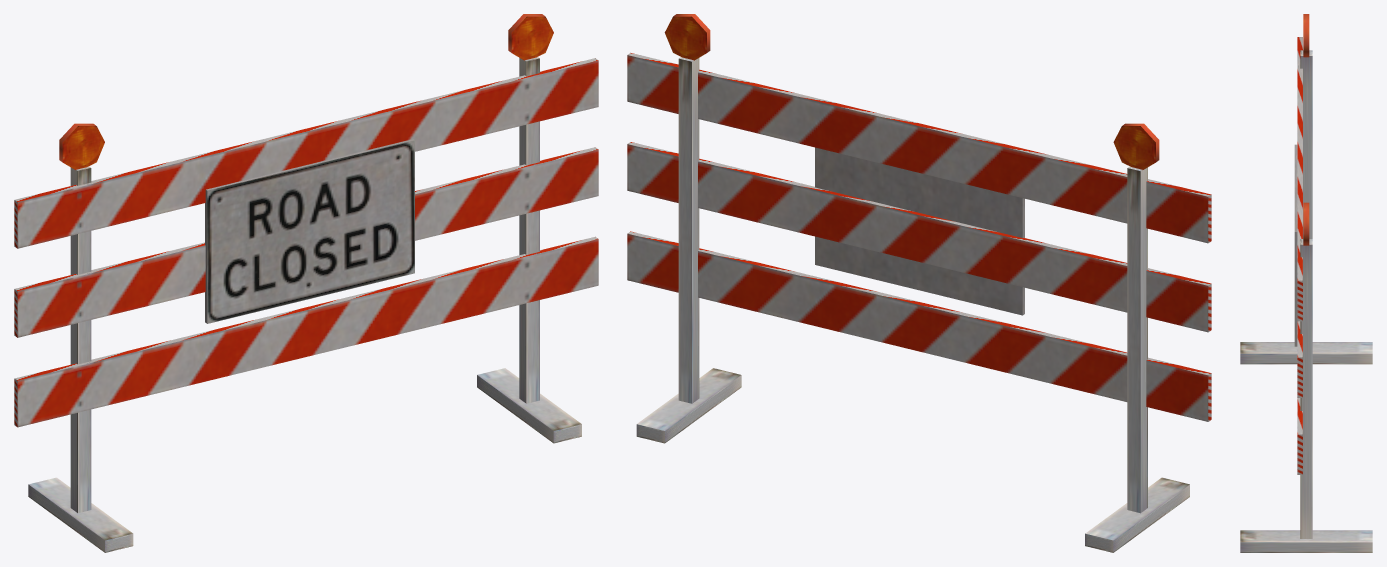
The model's file is D_rclose_01.FBX.
3 views of the same model, side by side, from view 1: azimuth 30°, elevation 25°; view 2: azimuth 150°, elevation 25°; view 3: azimuth 270°, elevation 25° (orthographic). The views are drawn at different scales.
Parts seen in each view (by area): view 1: Box005; view 2: Box005; view 3: Box005.
Part boxes in pixels (left/top/right/bottom): Box005: left=14, top=14, right=598, bottom=552; Box005: left=627, top=14, right=1211, bottom=552; Box005: left=1240, top=14, right=1372, bottom=552.
Bounding box in the file's own units: 7.42 × 4.86 × 1.7.
